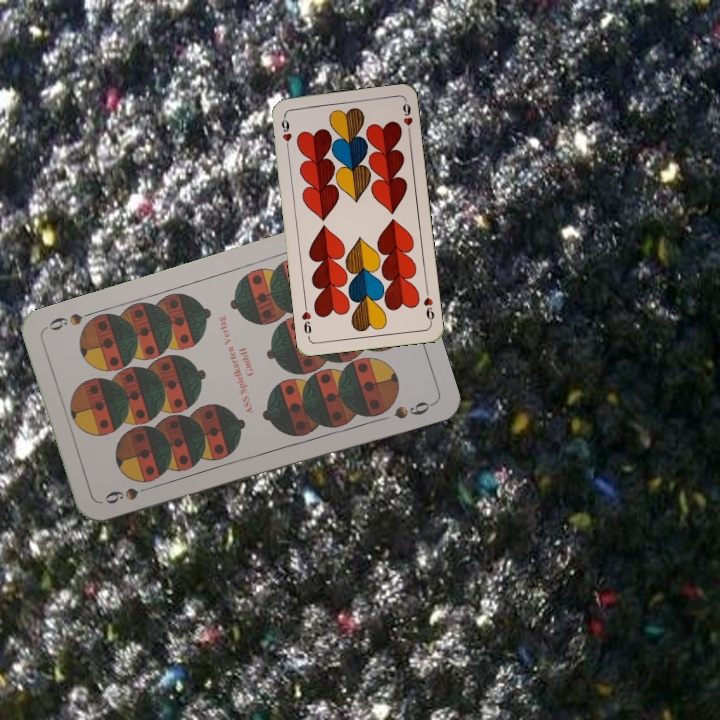H9: (419, 285, 437, 326), (277, 112, 294, 152)
S9: (100, 481, 158, 507)
